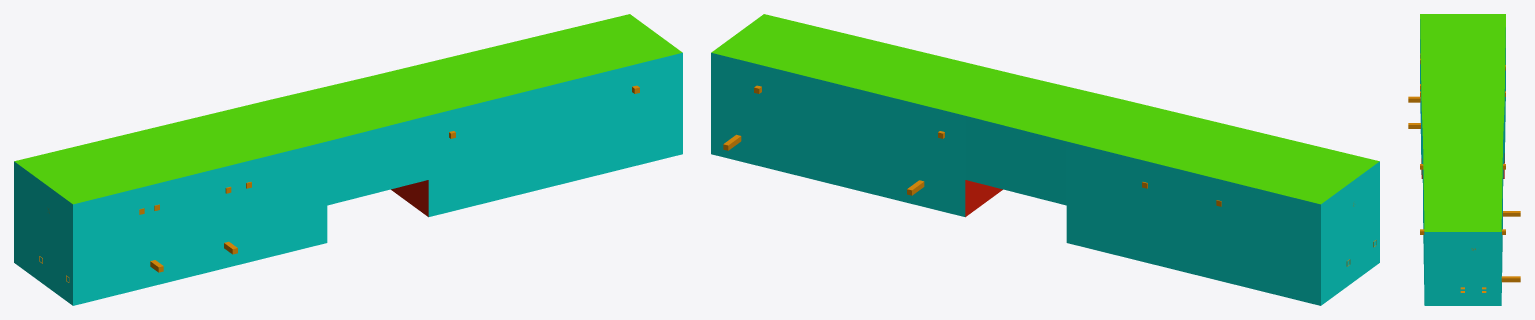
Rendered from Floor 18.fbx.
3 views of the same model, side by side, from view 1: azimuth 30°, elevation 25°; view 2: azimuth 150°, elevation 25°; view 3: azimuth 270°, elevation 25° (orthographic). The views are drawn at different scales.
Visible parts, largest first — view 1: Floor18Mesh; view 2: Floor18Mesh; view 3: Floor18Mesh.
Boxes of the visible parts, box(x1,y1,x2,y2) form: Floor18Mesh: box(14, 14, 682, 305); Floor18Mesh: box(711, 14, 1379, 305); Floor18Mesh: box(1408, 14, 1520, 305).
Size of the model in its own units: 12117 by 1919 by 2620.
